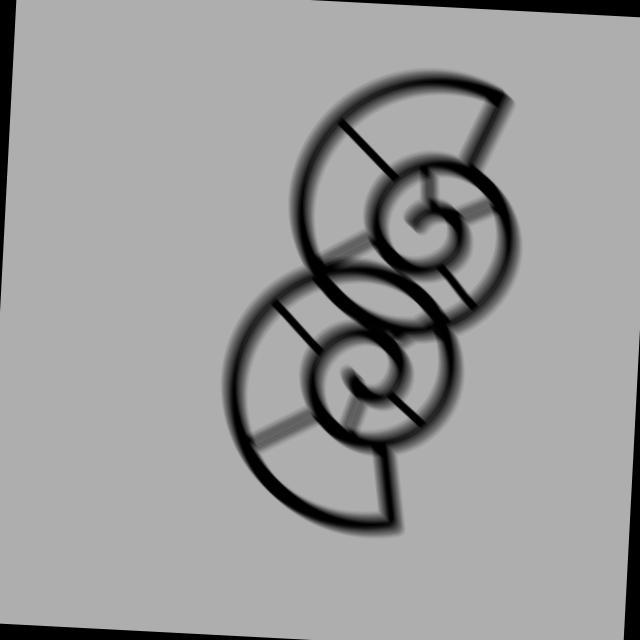fossil: (273, 52, 543, 355), (208, 254, 484, 546)
